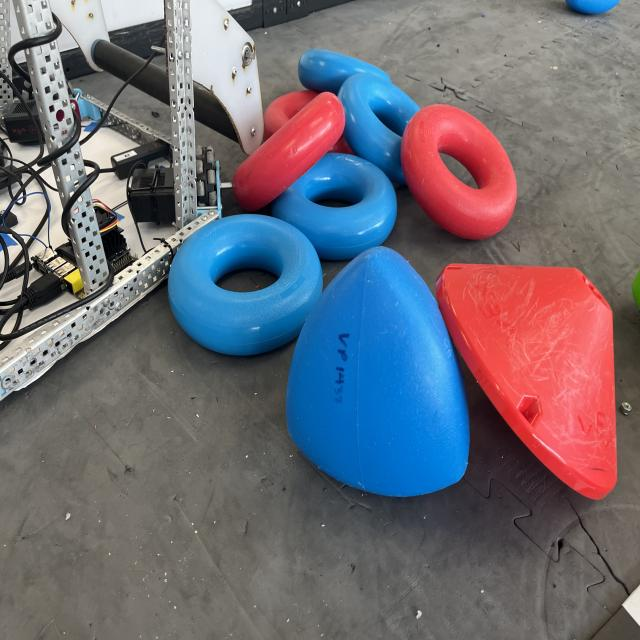Blue-Ring: (168, 215, 322, 355), (271, 153, 396, 260), (338, 73, 420, 185), (298, 48, 391, 95)
Red-Ring: (401, 105, 516, 240), (232, 92, 345, 210)
